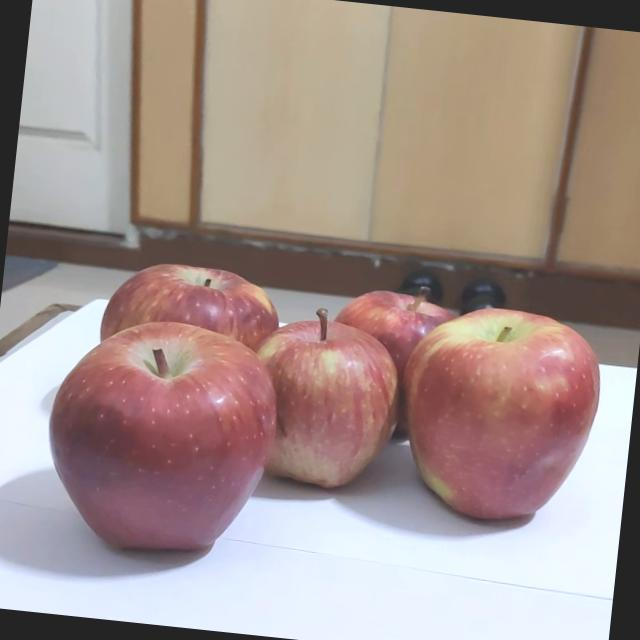apple: (60, 316, 316, 586), (58, 222, 271, 428), (396, 295, 600, 507), (237, 298, 420, 480), (292, 242, 448, 394)
